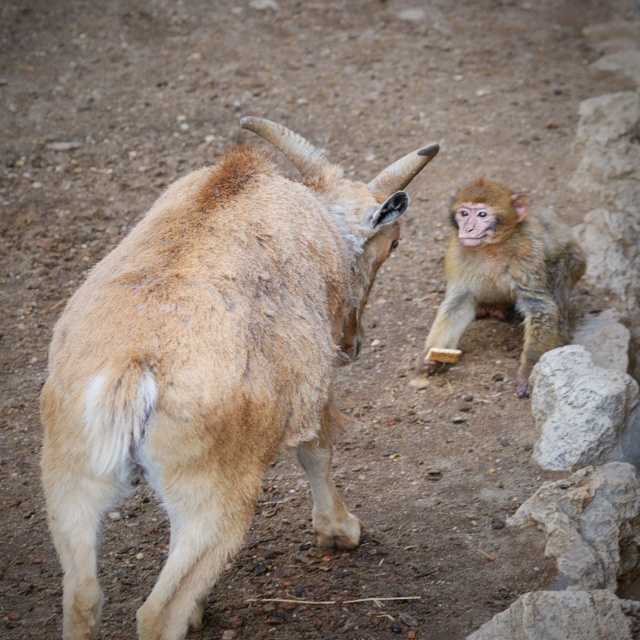Monkey: (424, 180, 573, 375)
